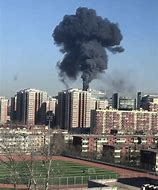smoke: (51, 5, 125, 87)
